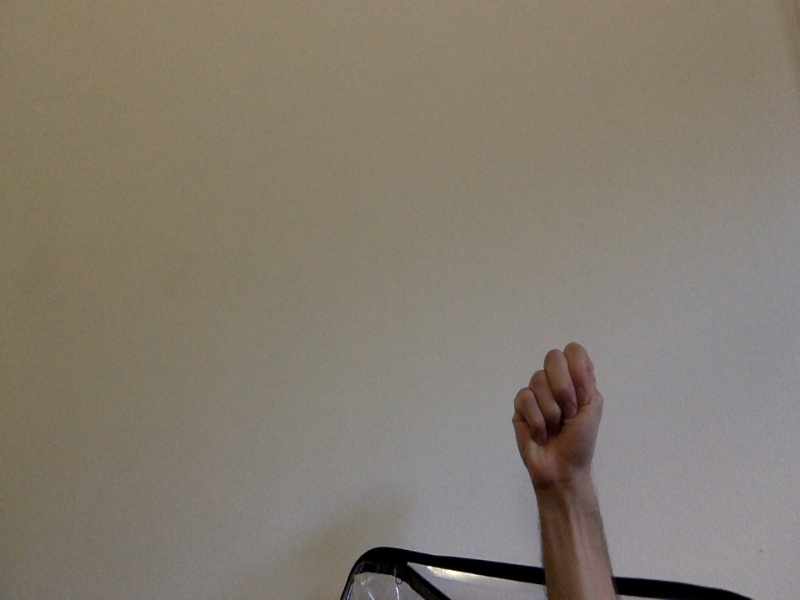0-hand: (512, 344, 601, 482)
